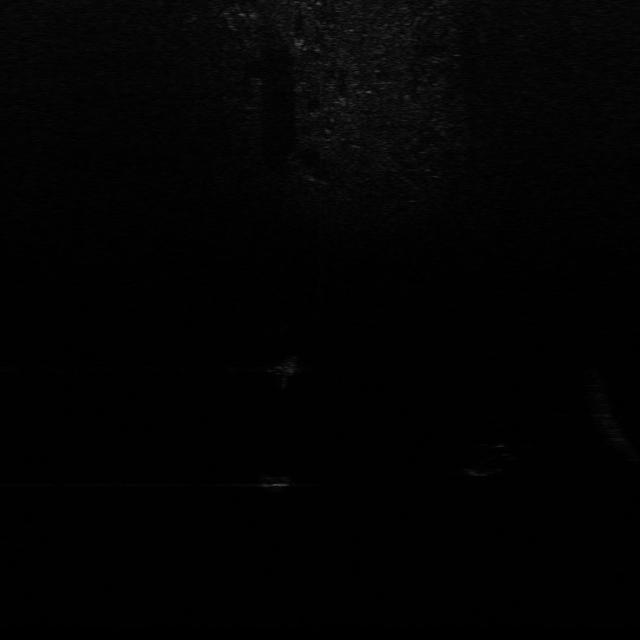cube: (258, 473, 291, 493)
square cage: (267, 351, 304, 377)
tyre: (453, 439, 519, 477)
